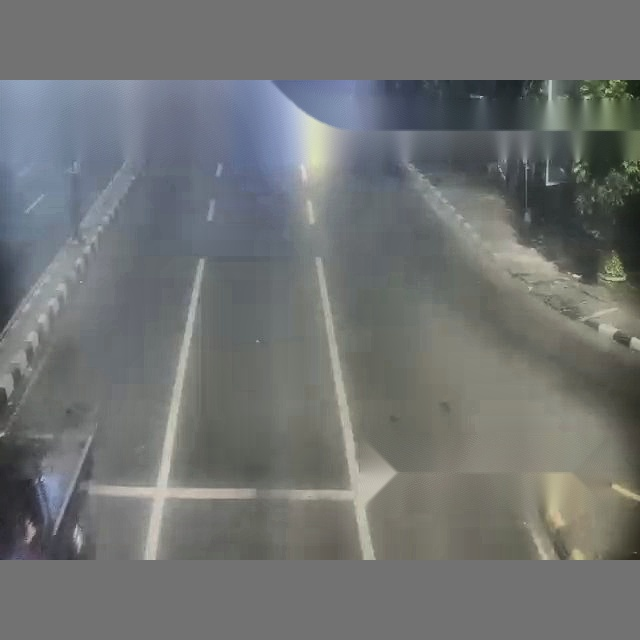Motor: (28, 436, 92, 557)
